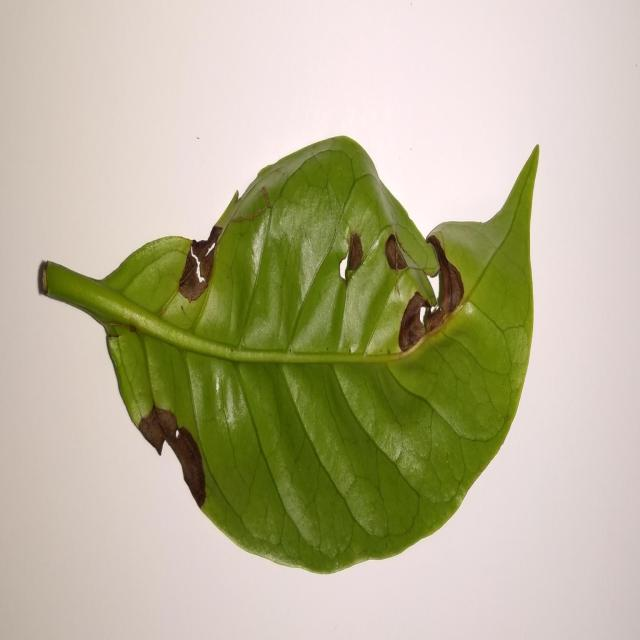phoma: (399, 231, 464, 352), (137, 405, 206, 509), (178, 226, 223, 301), (339, 231, 366, 282), (385, 234, 409, 272)
